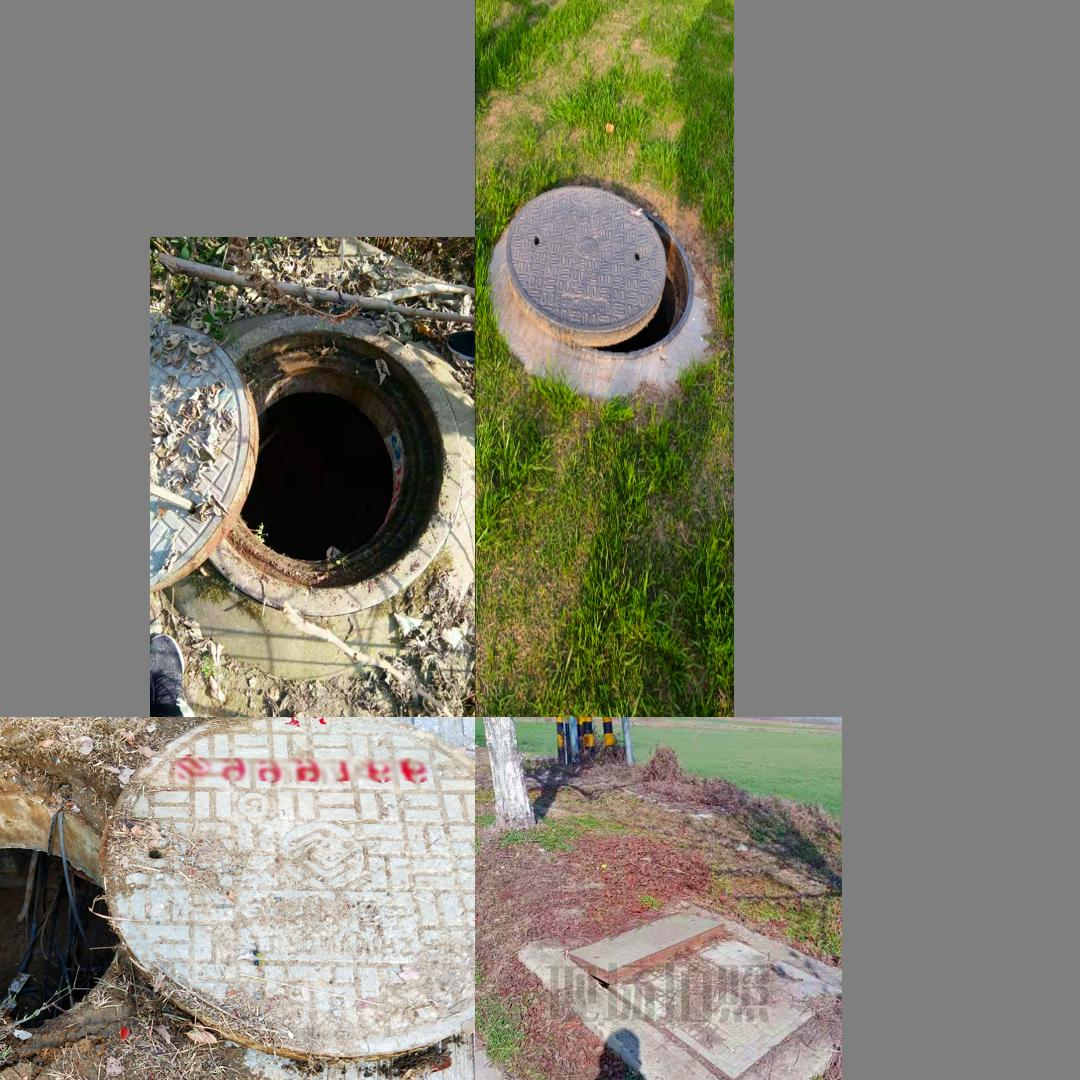uncovered: (0, 728, 472, 1075), (152, 316, 462, 618), (564, 900, 831, 1050), (502, 181, 696, 361)
